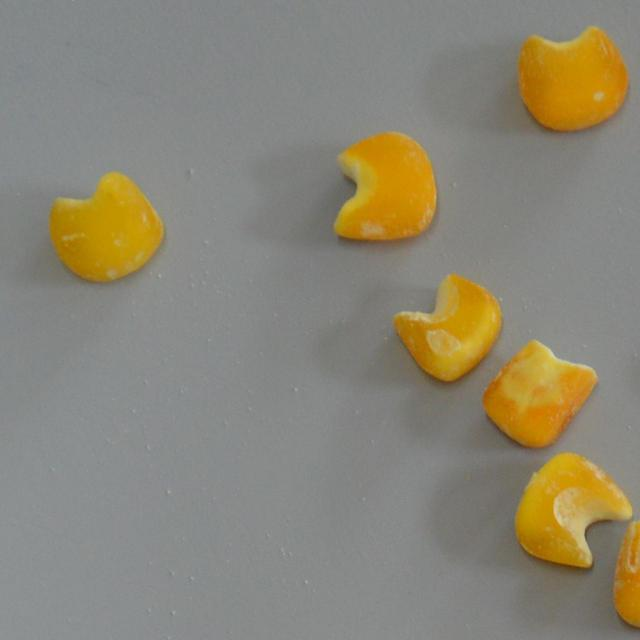dañado: (512, 448, 634, 572), (46, 168, 166, 290), (390, 271, 508, 386), (480, 338, 600, 451), (512, 21, 630, 135), (609, 514, 640, 636)
pelicula: (331, 128, 440, 246)
